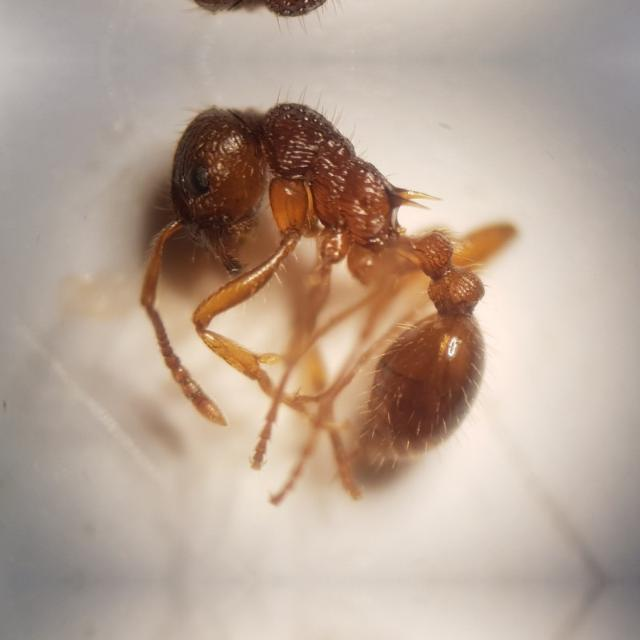Myrmica: (111, 59, 513, 458)
